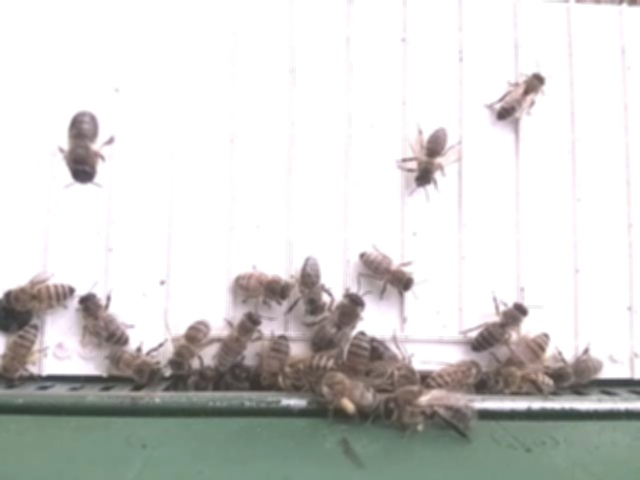Drone: (306, 289, 368, 353), (62, 105, 107, 188)
Worker: (466, 296, 533, 356), (353, 243, 423, 300), (160, 316, 223, 372), (212, 308, 264, 374), (75, 290, 133, 348), (0, 319, 50, 386), (491, 69, 551, 124), (409, 123, 454, 192), (228, 260, 291, 307), (0, 277, 80, 313), (104, 337, 164, 385), (296, 249, 330, 321), (545, 352, 607, 391), (421, 356, 484, 391)
